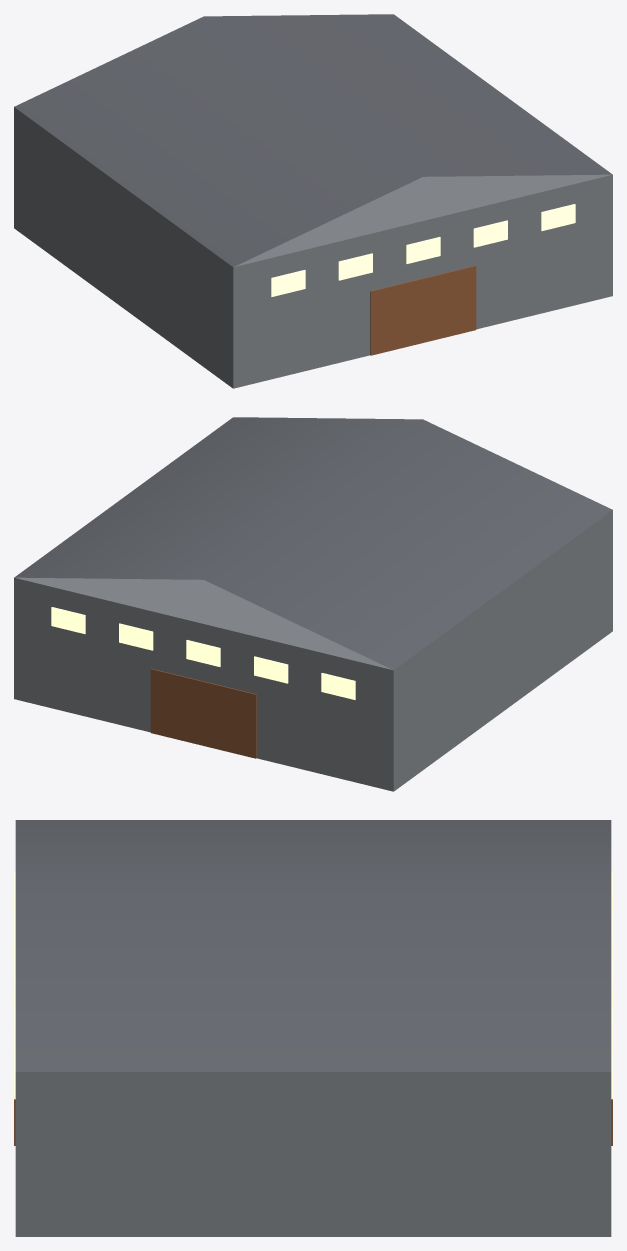
The model's file is warehouse.glb.
The picture shows the model from 3 angles, top to bottom: view 1: azimuth 30°, elevation 25°; view 2: azimuth 150°, elevation 25°; view 3: azimuth 270°, elevation 25°; orthographic projection. The views are drawn at different scales.
Visible parts, largest first — view 1: Warehouse; view 2: Warehouse; view 3: Warehouse.
Boxes of the visible parts, x1,y1,x2,y2 form: Warehouse: [14, 14, 612, 388]; Warehouse: [14, 417, 612, 791]; Warehouse: [14, 820, 612, 1236].
Bounding box in the file's own units: 36 × 15 × 36.2.
